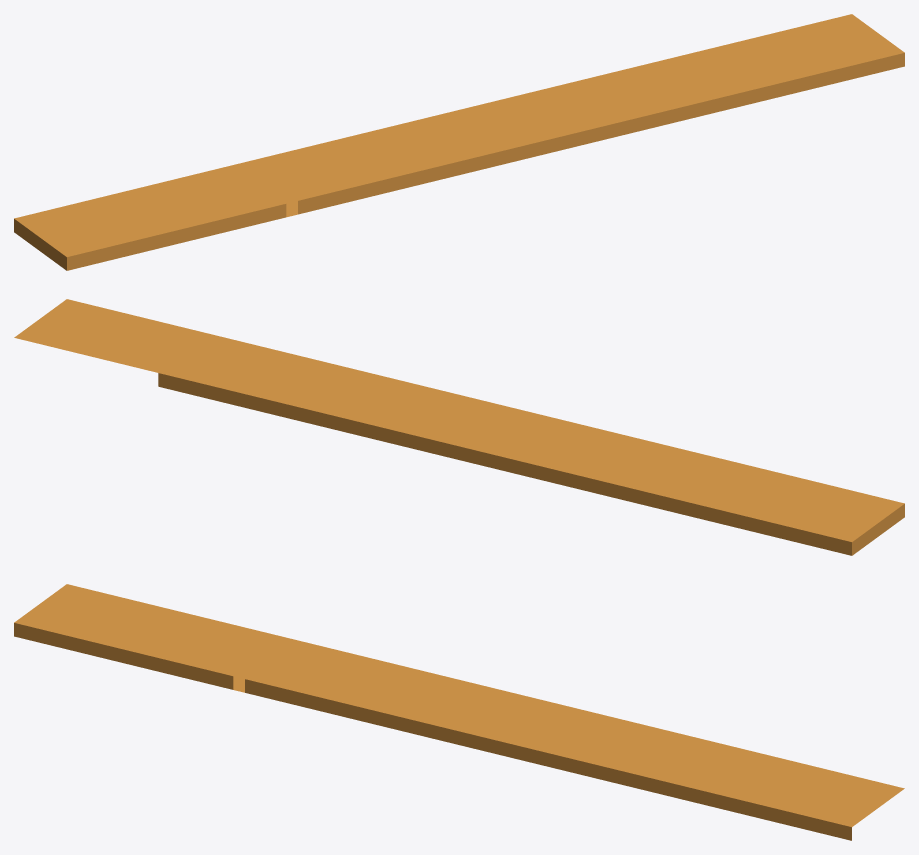
The model's file is Shelf ORIGIN.fbx.
The picture shows the model from 3 angles, top to bottom: view 1: azimuth 30°, elevation 25°; view 2: azimuth 150°, elevation 25°; view 3: azimuth 330°, elevation 25°; orthographic projection.
Visible parts, largest first — view 1: group1104049032.016, group1104049032.013, group1104049032.010, group1104049032.031, group1104049032.028, group1104049032.004, group1104049032.020, group1104049032.001, group1104049032.002, group1104049032.003, group1104049032.007, group1104049032.024 (+6 smaller); view 2: group1104049032.016, group1104049032.013, group1104049032.010, group1104049032.031, group1104049032.028, group1104049032.004, group1104049032.020, group1104049032.001, group1104049032.002, group1104049032.007, group1104049032.024, group1104049032.034 (+6 smaller); view 3: group1104049032.016, group1104049032.013, group1104049032.010, group1104049032.031, group1104049032.028, group1104049032.004, group1104049032.020, group1104049032.001, group1104049032.002, group1104049032.003, group1104049032.007, group1104049032.024 (+6 smaller).
Part boxes in pixels (x1=…): group1104049032.016: x1=318, y1=120, x2=542, y2=177; group1104049032.013: x1=417, y1=82, x2=573, y2=146; group1104049032.010: x1=522, y1=82, x2=688, y2=140; group1104049032.031: x1=14, y1=189, x2=192, y2=237; group1104049032.028: x1=135, y1=174, x2=285, y2=226; group1104049032.004: x1=658, y1=49, x2=867, y2=104; group1104049032.020: x1=274, y1=144, x2=393, y2=200; group1104049032.001: x1=756, y1=14, x2=904, y2=61; group1104049032.002: x1=708, y1=37, x2=867, y2=76; group1104049032.003: x1=689, y1=53, x2=904, y2=118; group1104049032.007: x1=573, y1=49, x2=706, y2=105; group1104049032.024: x1=194, y1=155, x2=297, y2=203; group1104049032.016: x1=429, y1=387, x2=576, y2=467; group1104049032.013: x1=293, y1=387, x2=486, y2=443; group1104049032.010: x1=272, y1=351, x2=427, y2=405; group1104049032.031: x1=731, y1=473, x2=877, y2=541; group1104049032.028: x1=672, y1=450, x2=778, y2=512; group1104049032.004: x1=104, y1=308, x2=281, y2=373; group1104049032.020: x1=548, y1=423, x2=673, y2=478; group1104049032.001: x1=14, y1=299, x2=110, y2=360; group1104049032.002: x1=103, y1=308, x2=202, y2=372; group1104049032.007: x1=159, y1=352, x2=308, y2=405; group1104049032.024: x1=593, y1=447, x2=685, y2=498; group1104049032.034: x1=779, y1=473, x2=904, y2=522; group1104049032.016: x1=342, y1=658, x2=489, y2=738; group1104049032.013: x1=432, y1=682, x2=625, y2=738; group1104049032.010: x1=491, y1=720, x2=646, y2=774; group1104049032.031: x1=41, y1=584, x2=187, y2=652; group1104049032.028: x1=140, y1=613, x2=246, y2=675; group1104049032.004: x1=637, y1=752, x2=813, y2=817; group1104049032.020: x1=245, y1=647, x2=370, y2=702; group1104049032.001: x1=808, y1=765, x2=904, y2=826; group1104049032.002: x1=716, y1=753, x2=815, y2=817; group1104049032.003: x1=637, y1=775, x2=851, y2=840; group1104049032.007: x1=610, y1=720, x2=759, y2=774; group1104049032.024: x1=233, y1=628, x2=325, y2=678.
Bounding box in the file's own units: 64 × 1 × 7.
